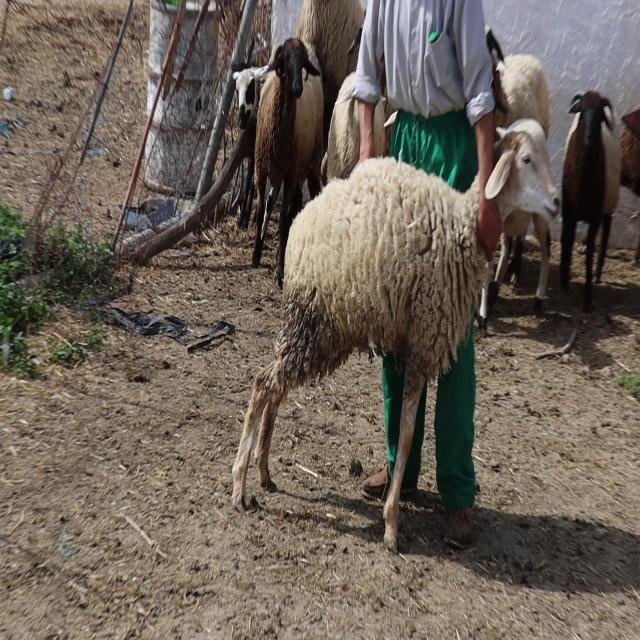Score_3: (232, 119, 559, 549)
